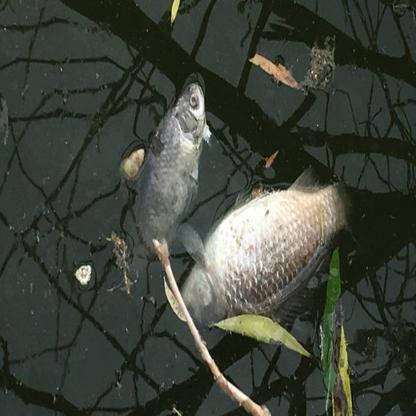deceased fish: (180, 169, 355, 318), (135, 78, 207, 258)
